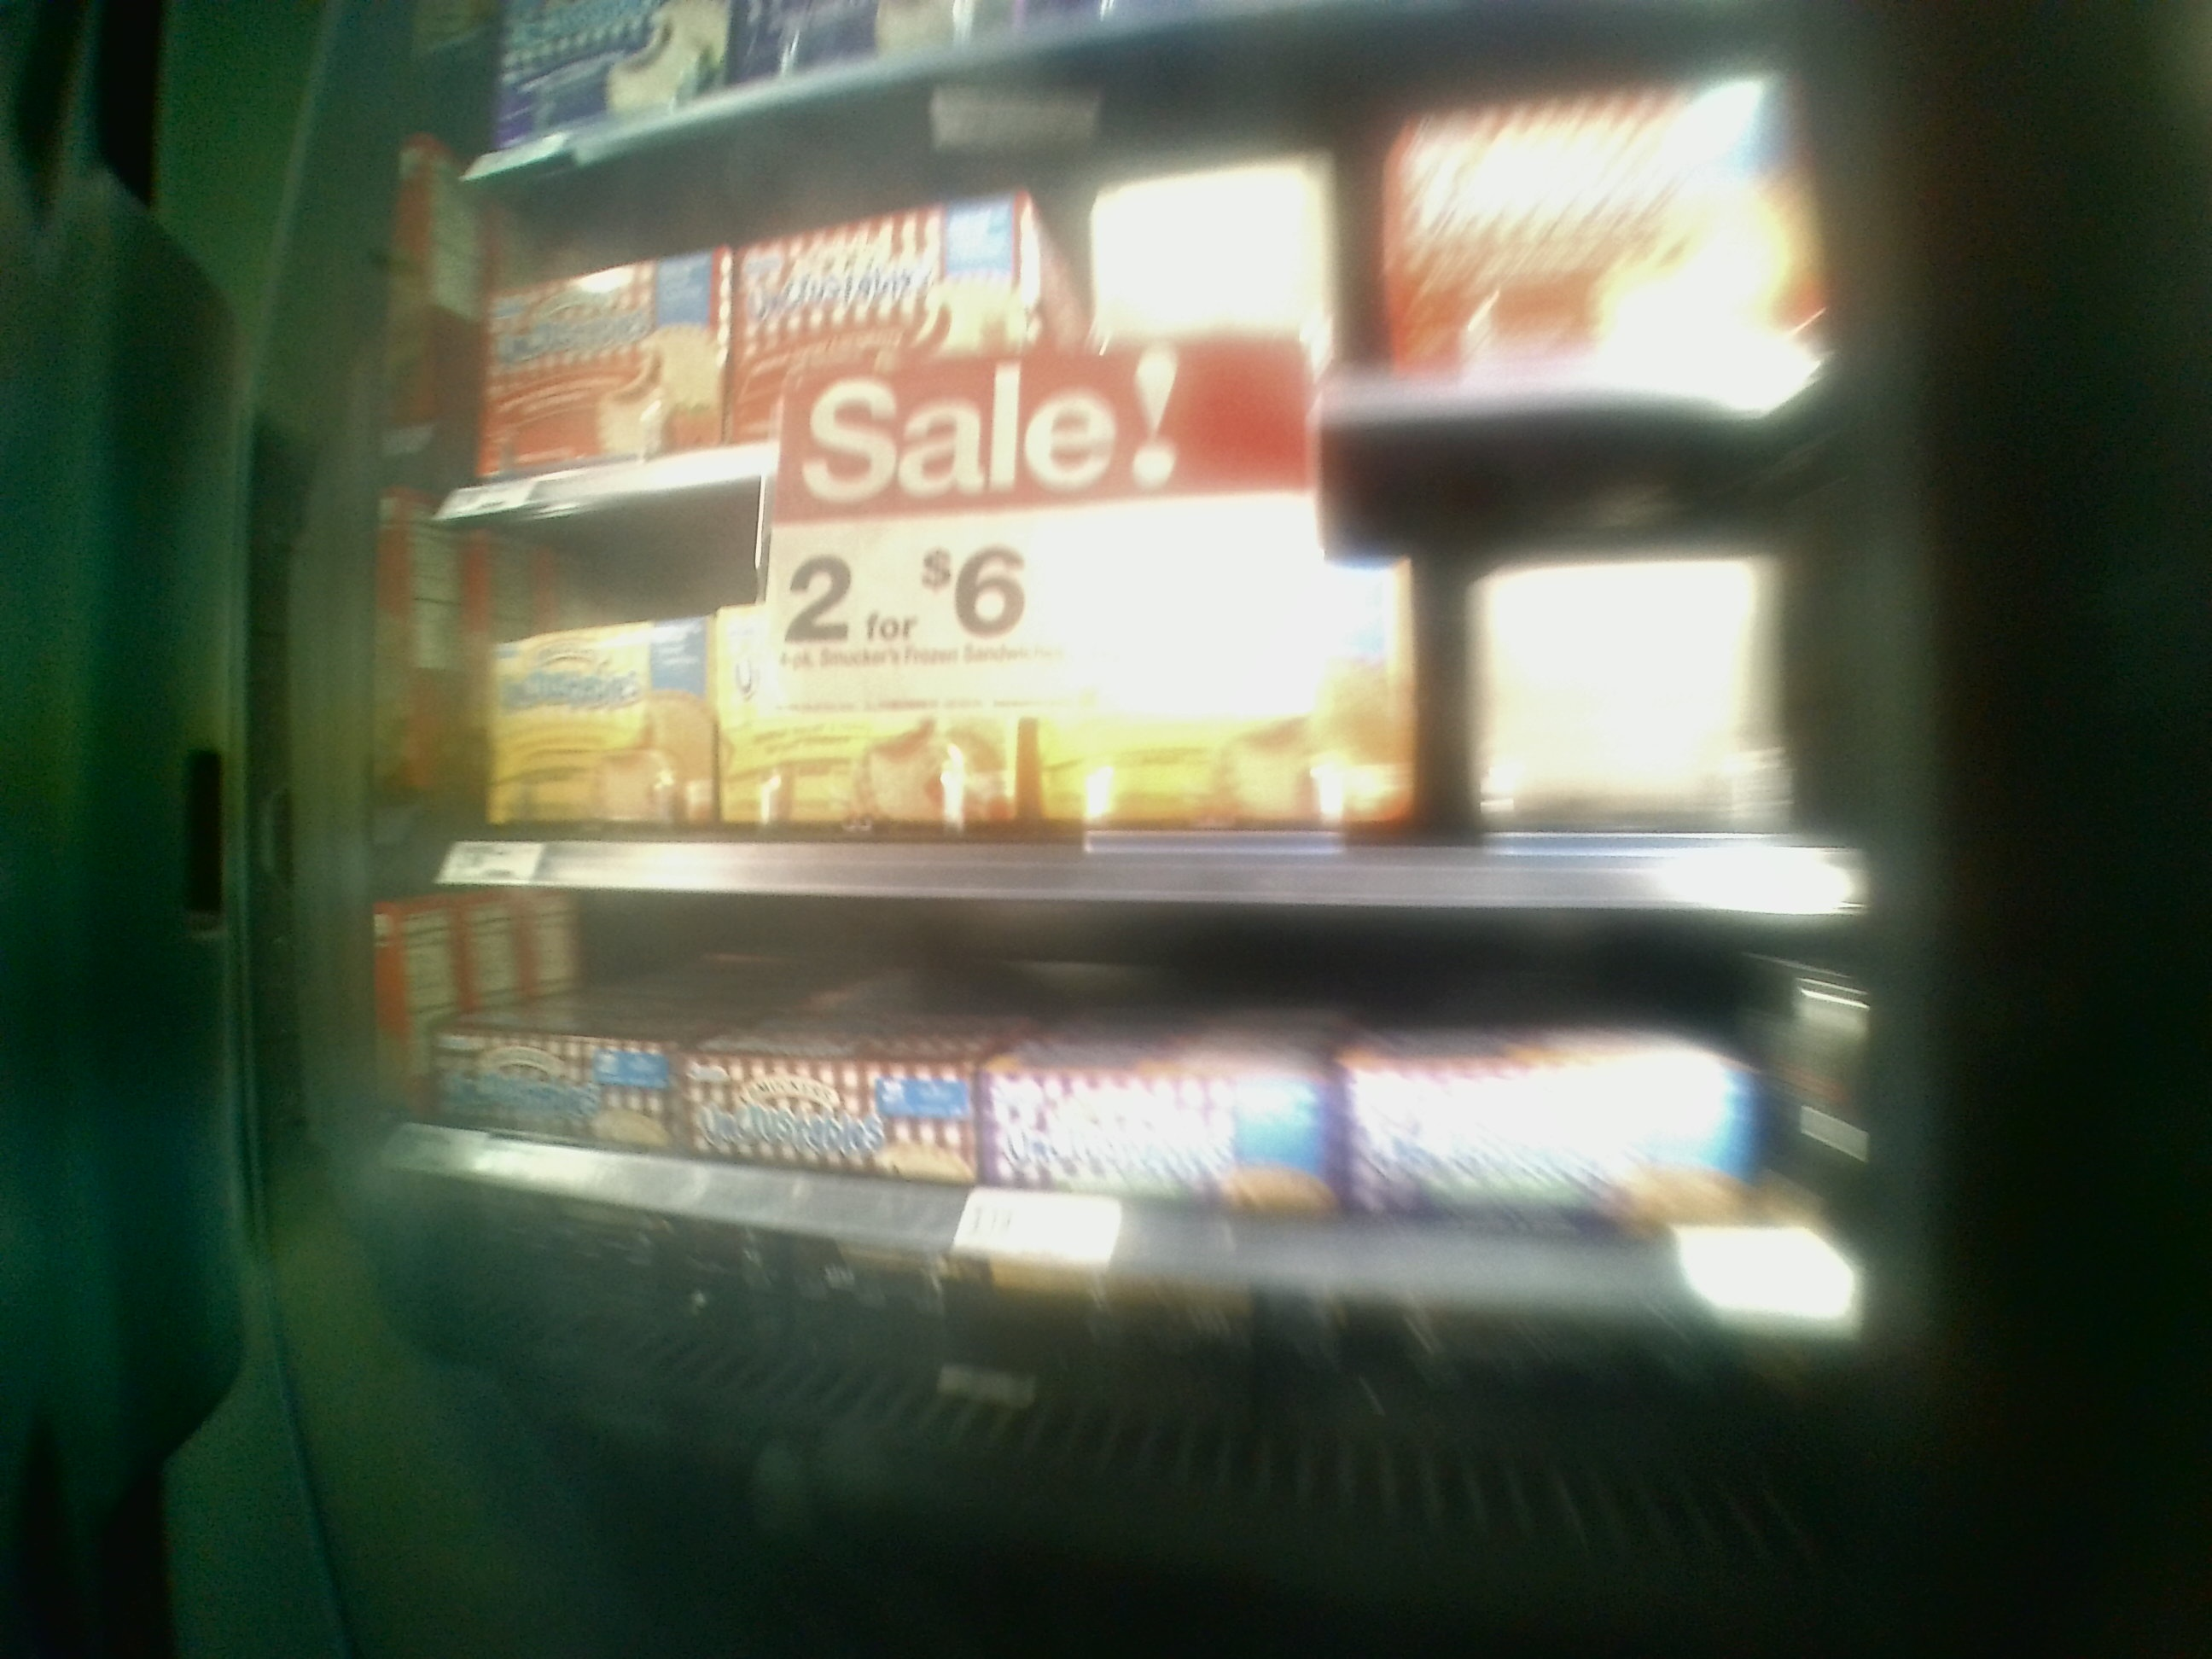shelf: (425, 870, 1911, 1469), (449, 490, 1791, 894)
